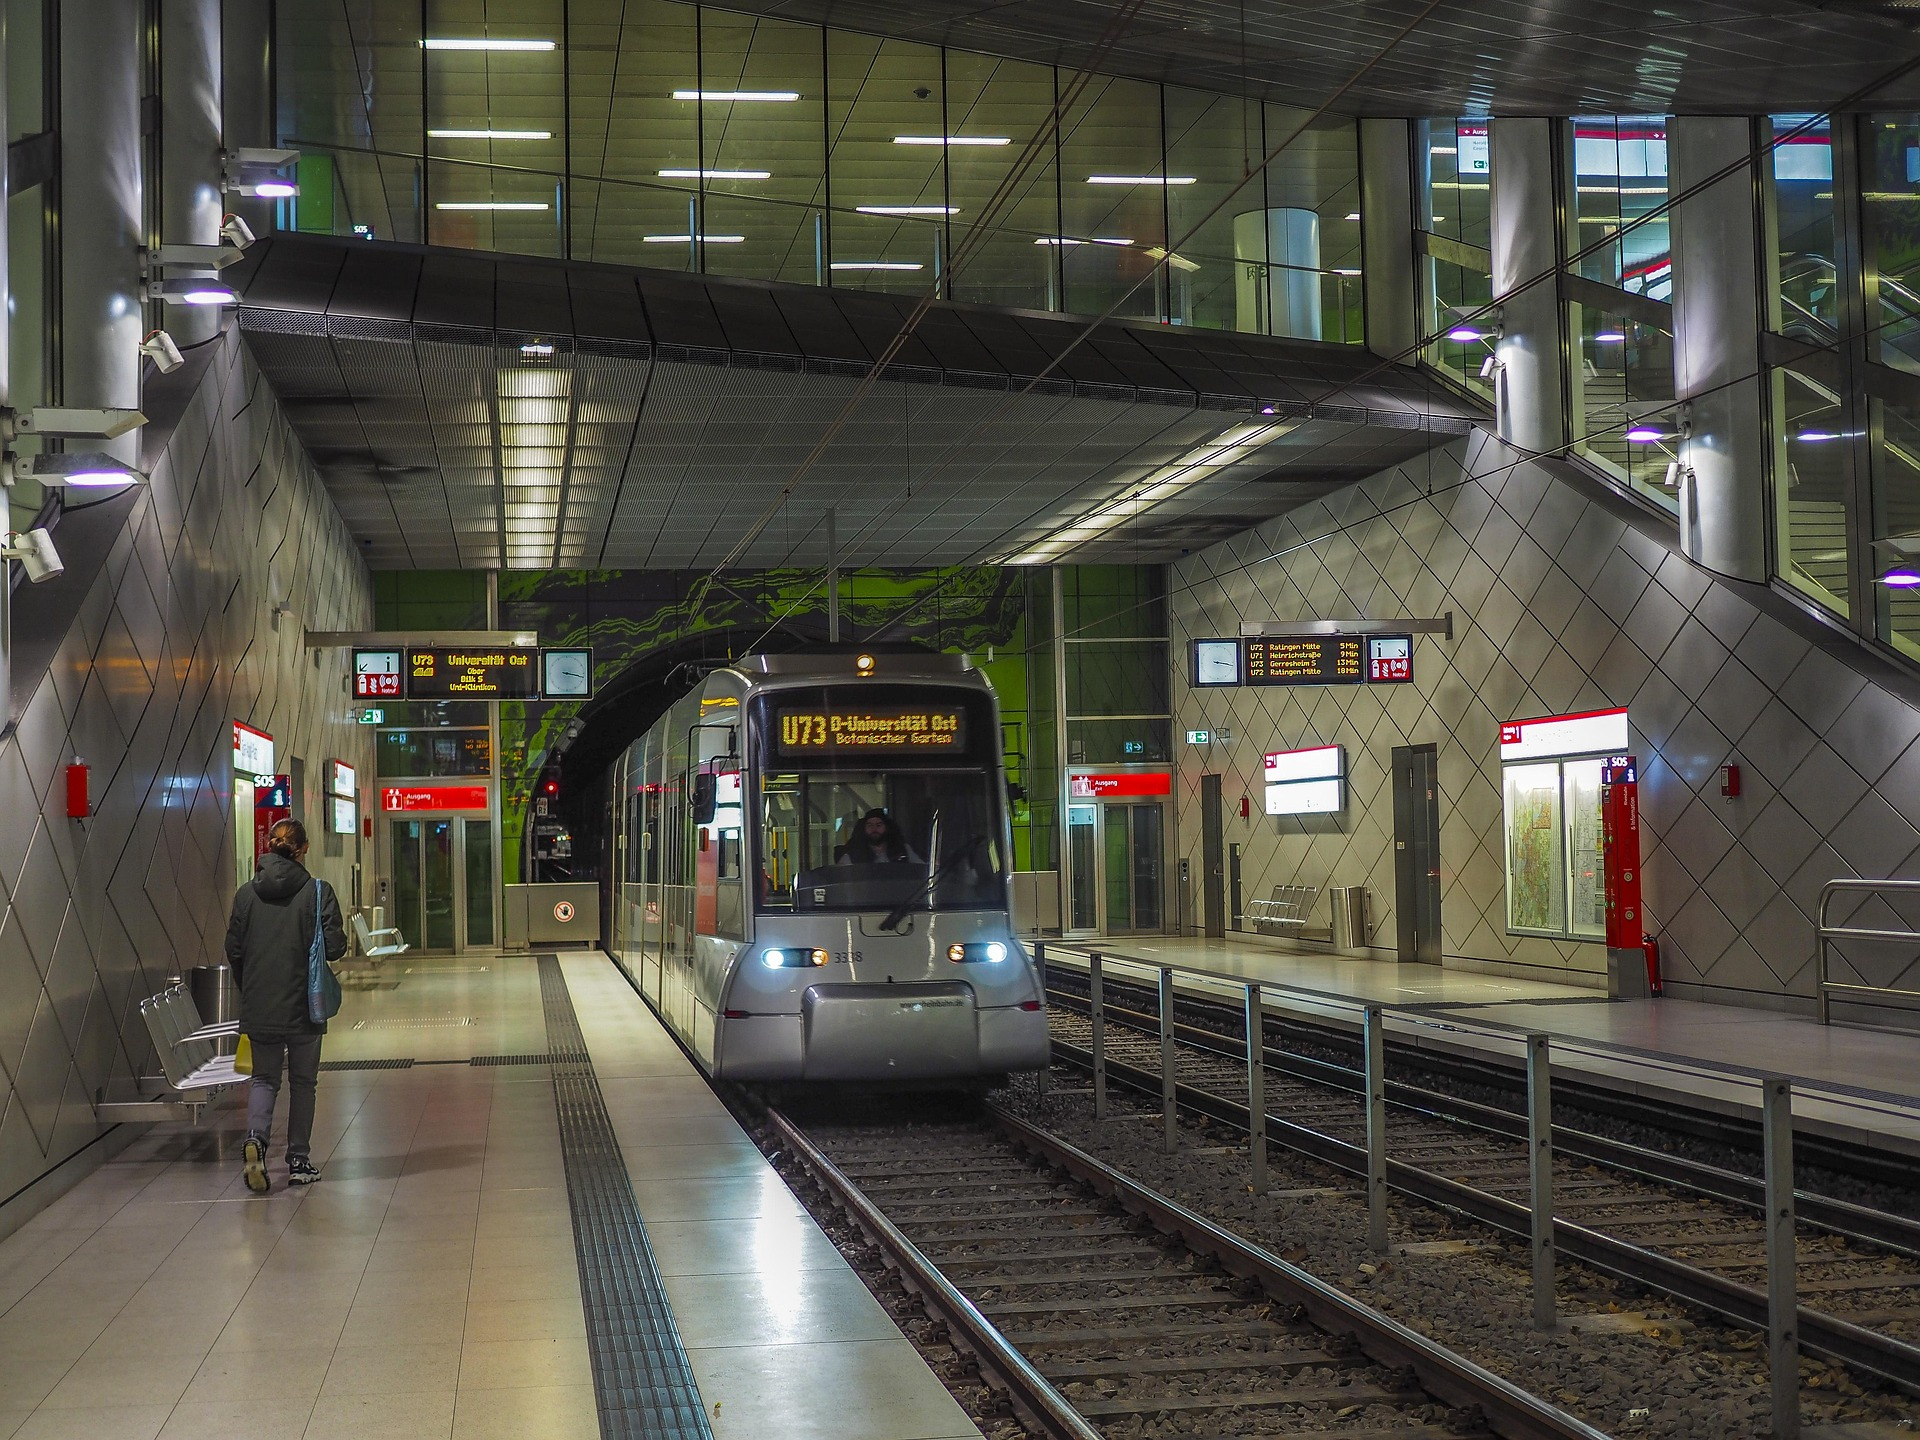train1: (604, 634, 1063, 1082)
